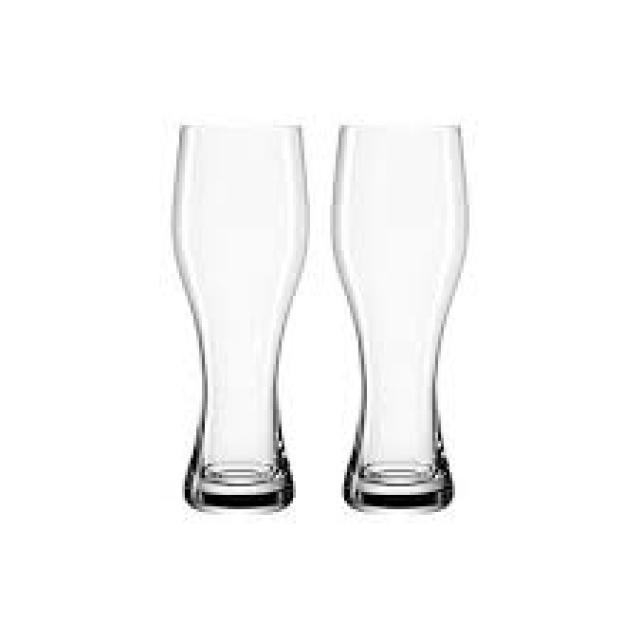glass: (171, 120, 307, 509), (333, 122, 466, 509)
